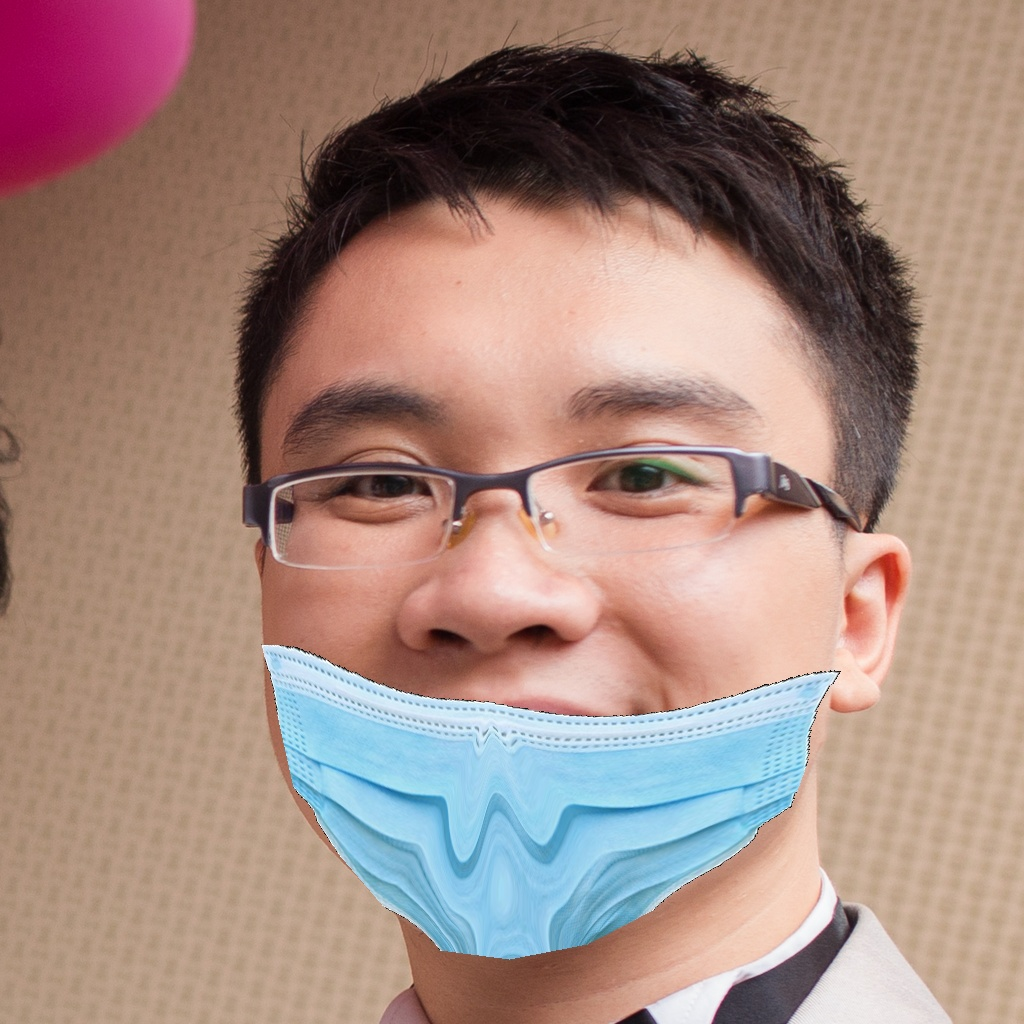mask_weared_incorrect: (227, 368, 874, 967)
